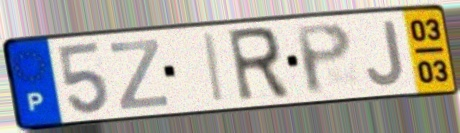5: (54, 39, 113, 117)
I: (203, 30, 228, 106)
J: (364, 17, 407, 89)
P: (291, 20, 355, 98)
R: (224, 24, 293, 106)
Z: (107, 37, 171, 113)
